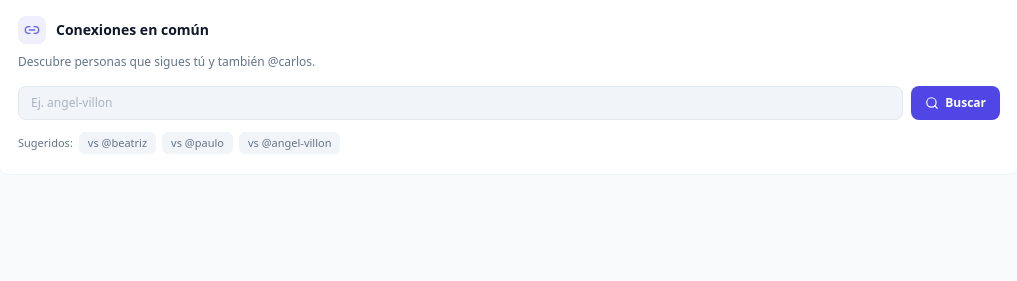
Scenario: ConexionesComunesPanel › Lista con resultados › muestra el identificador cuando el usuario no tiene nombre
The width and height of the screenshot is (1017, 281).
Step 1. Type "angel-villon" into the field named "Identificador de la otra persona" → (461, 102), box [18,86,903,120]
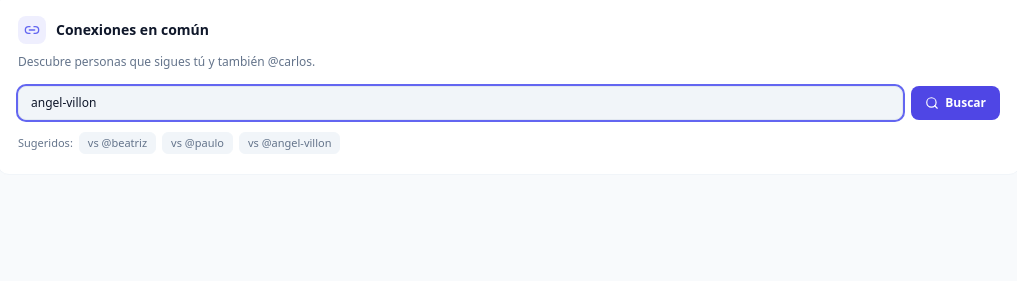
Step 2. Click the button "Buscar" → (956, 102), box [911,86,1000,120]
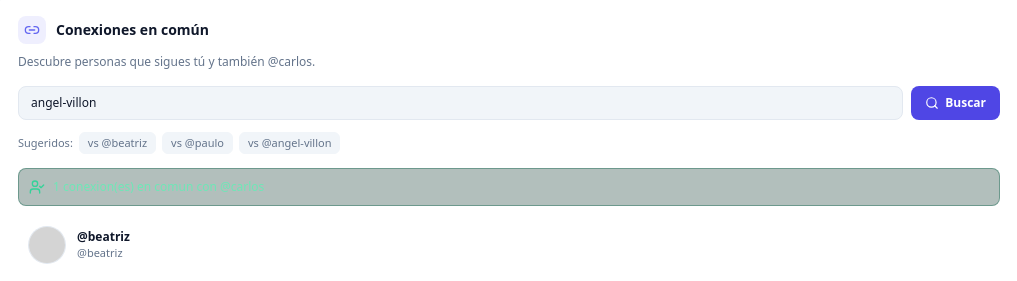
Now the text "@beatriz" is shown 2 times, box [77,228,130,245]; [77,245,123,260]
